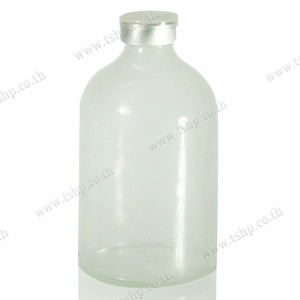glass_bottle: (76, 7, 223, 289)
